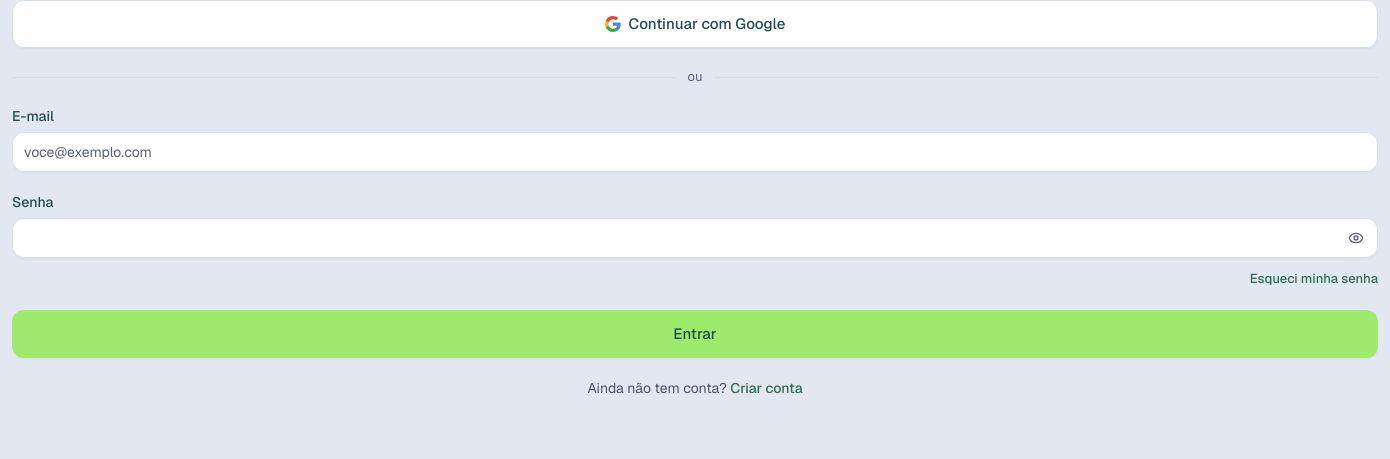
Test: LoginForm › valida antes de chamar a API
The image size is (1390, 459).
Click the button "Entrar".
click(695, 334)  # box [12,310,1378,358]
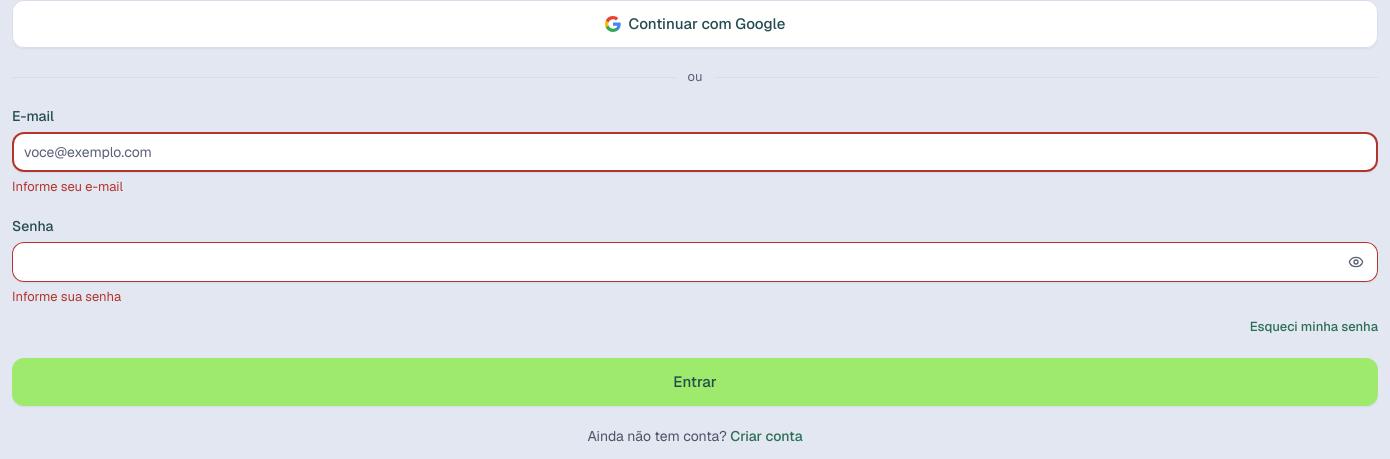
Check: the text "Informe seu e-mail" is shown, box [12,178,123,195]
